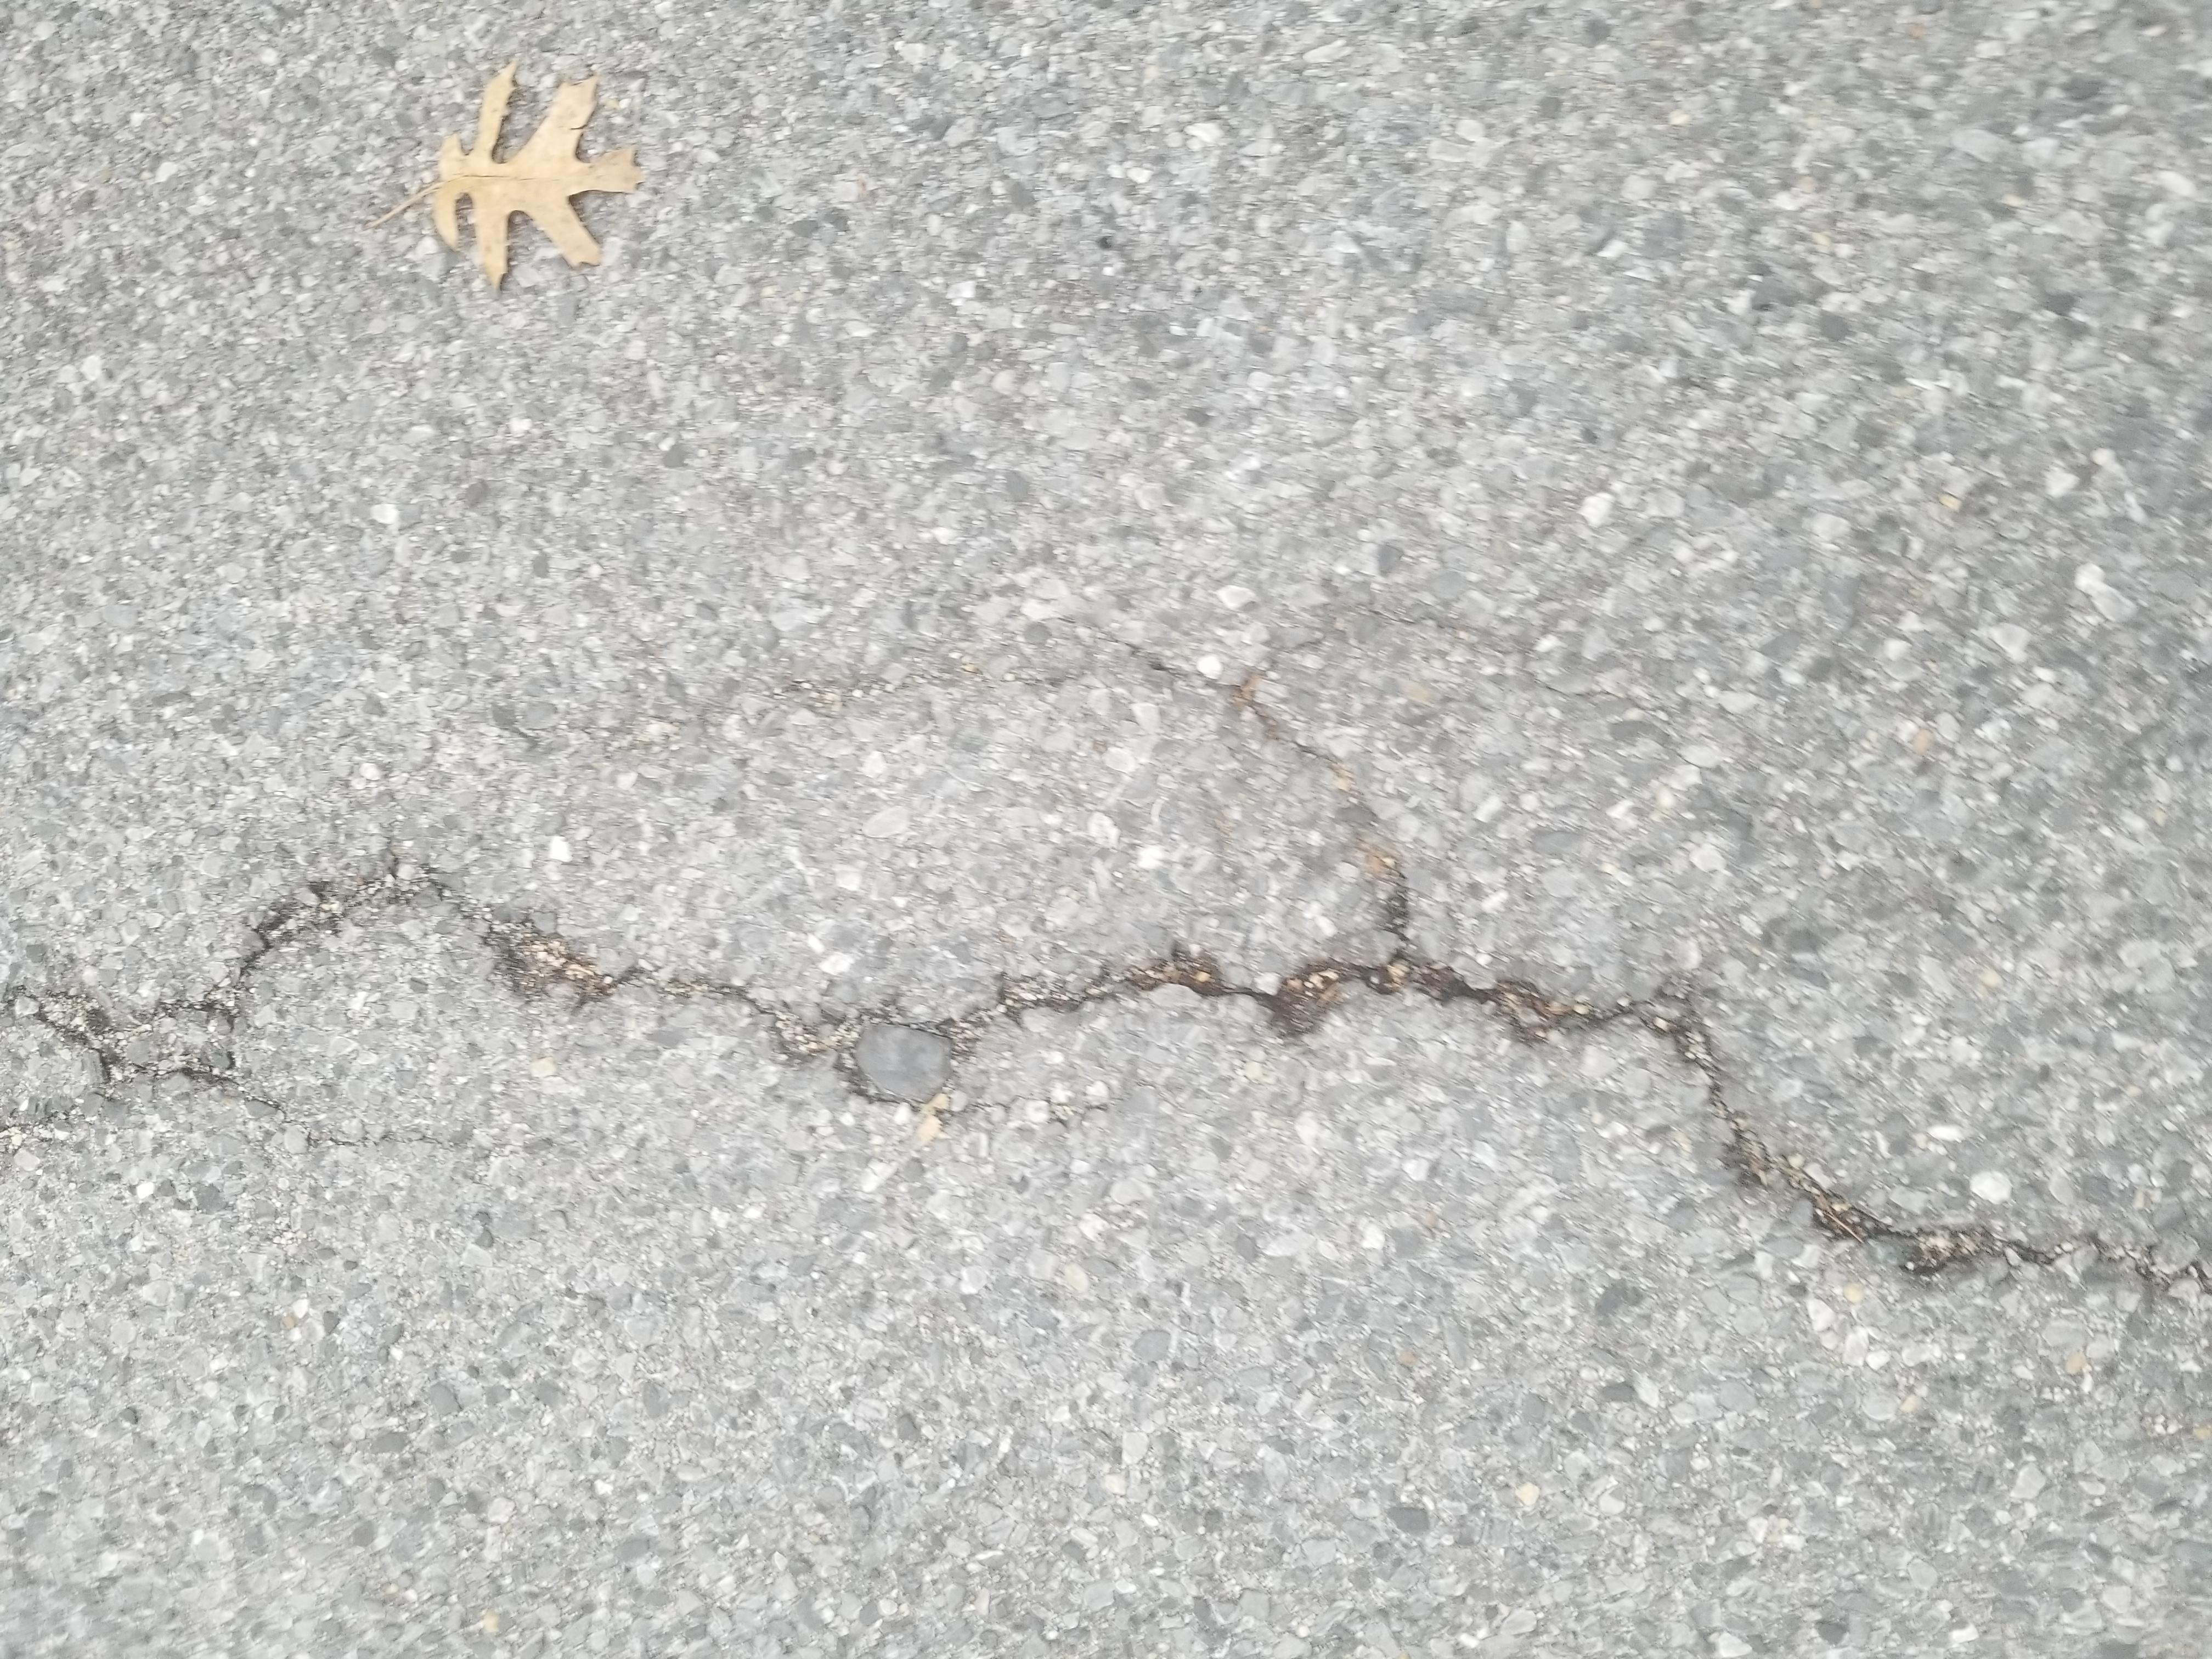crack: (197, 0, 1308, 1643)
